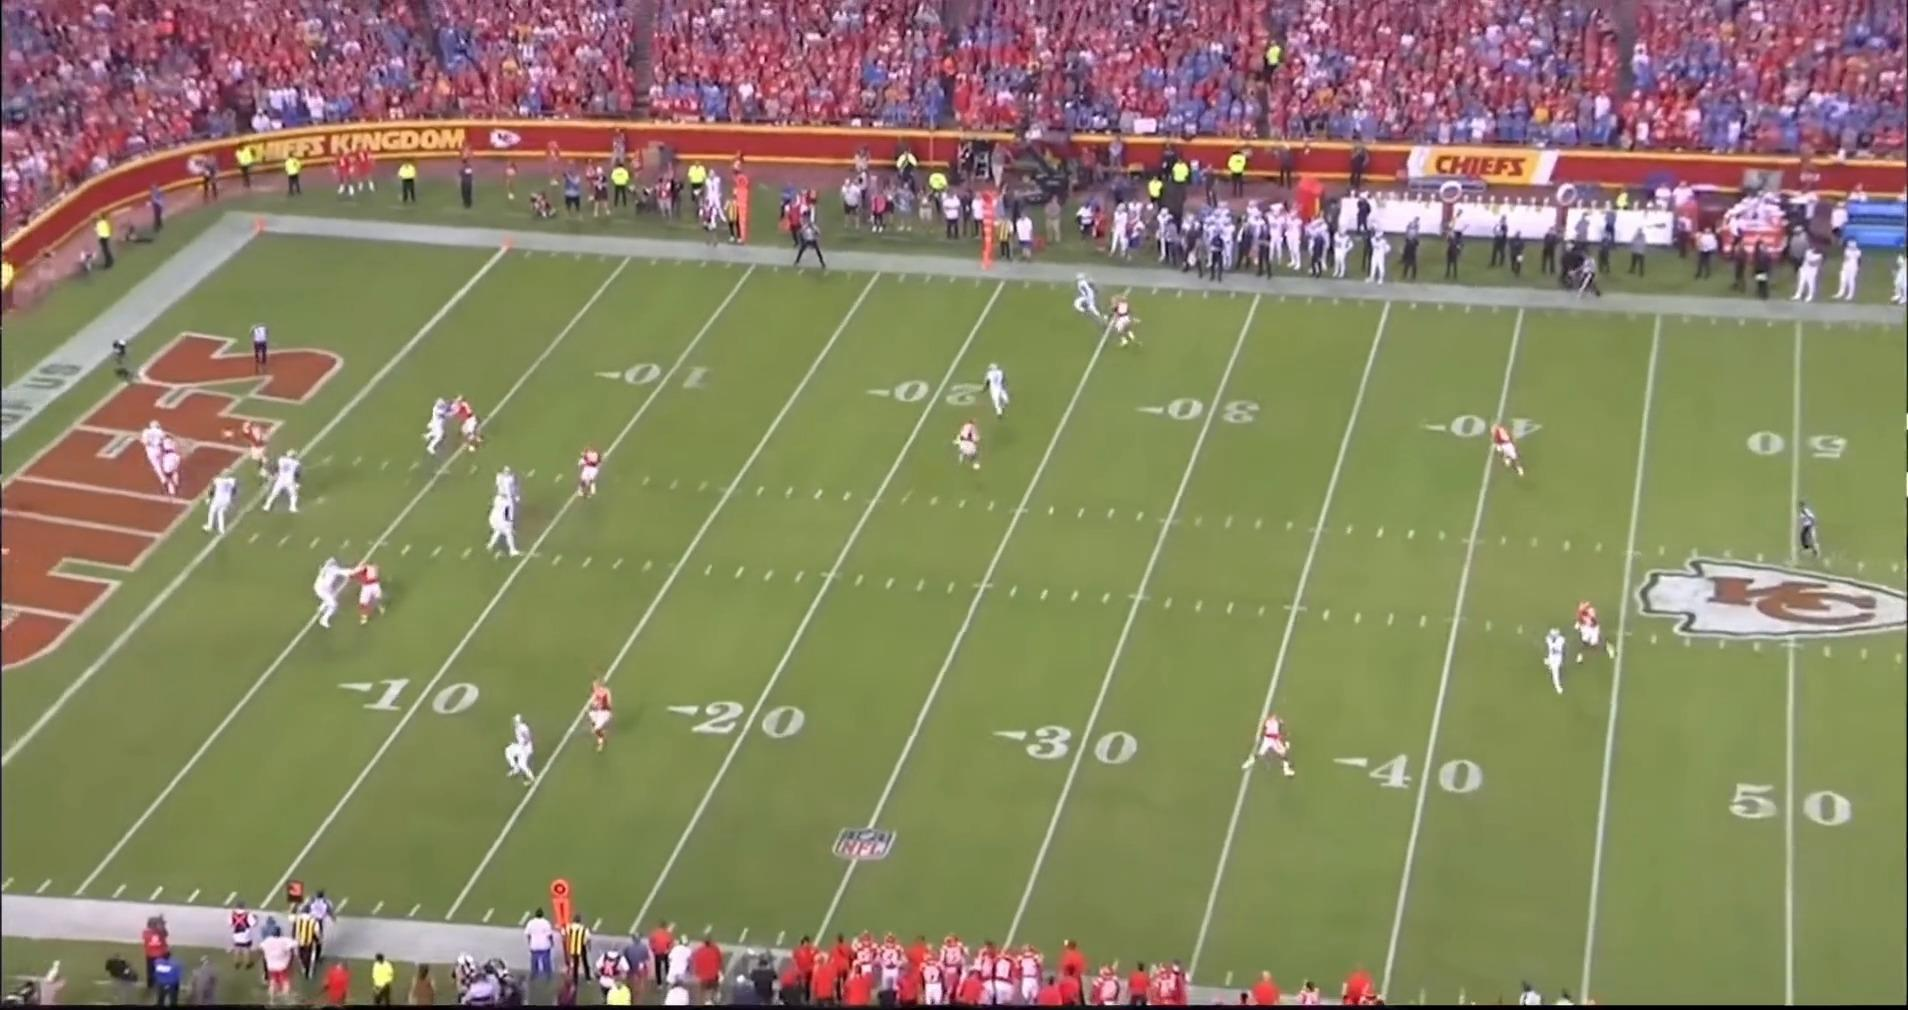defense: (1242, 710, 1301, 782), (1571, 601, 1619, 671), (1483, 426, 1529, 483), (586, 679, 623, 749), (236, 420, 276, 484), (349, 560, 387, 625), (447, 395, 485, 455), (1099, 295, 1137, 350), (951, 420, 987, 475), (577, 443, 609, 504), (157, 432, 181, 502)
oline: (265, 448, 308, 519), (200, 467, 242, 537), (314, 556, 354, 629), (489, 484, 524, 560), (494, 465, 521, 520)
qb: (139, 417, 169, 490)
ref: (1789, 504, 1830, 568), (795, 211, 829, 269), (1572, 254, 1606, 304), (247, 318, 272, 379)
skill: (502, 713, 540, 782), (1540, 625, 1574, 699), (422, 397, 460, 461), (1070, 269, 1106, 322), (982, 362, 1012, 420)
